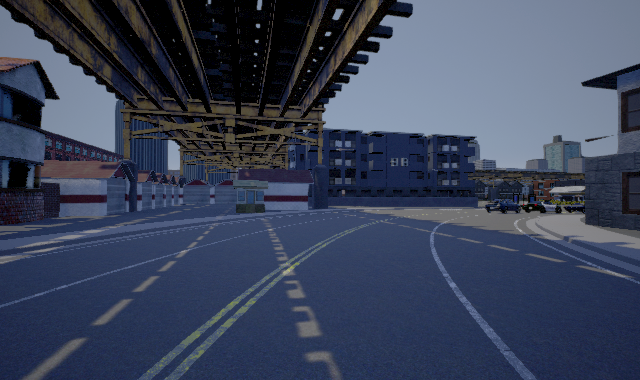vehicle: (522, 200, 562, 214), (485, 199, 521, 214)
